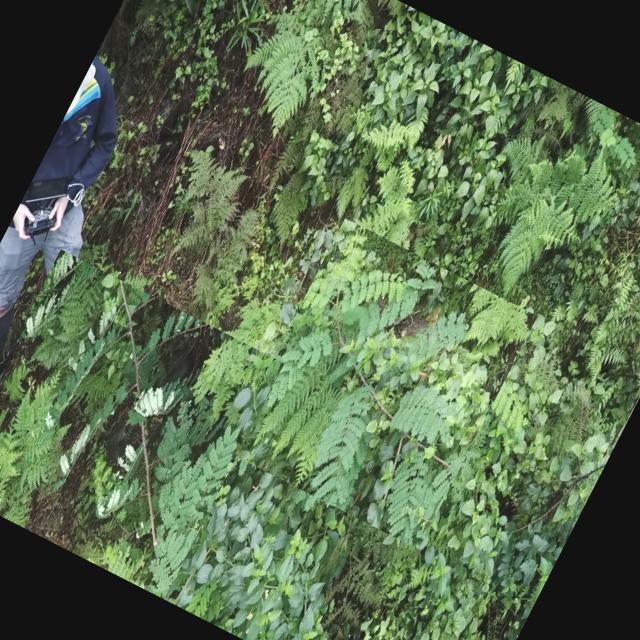Mysore-Thorn-Weed: (226, 218, 537, 550), (0, 249, 284, 599)
